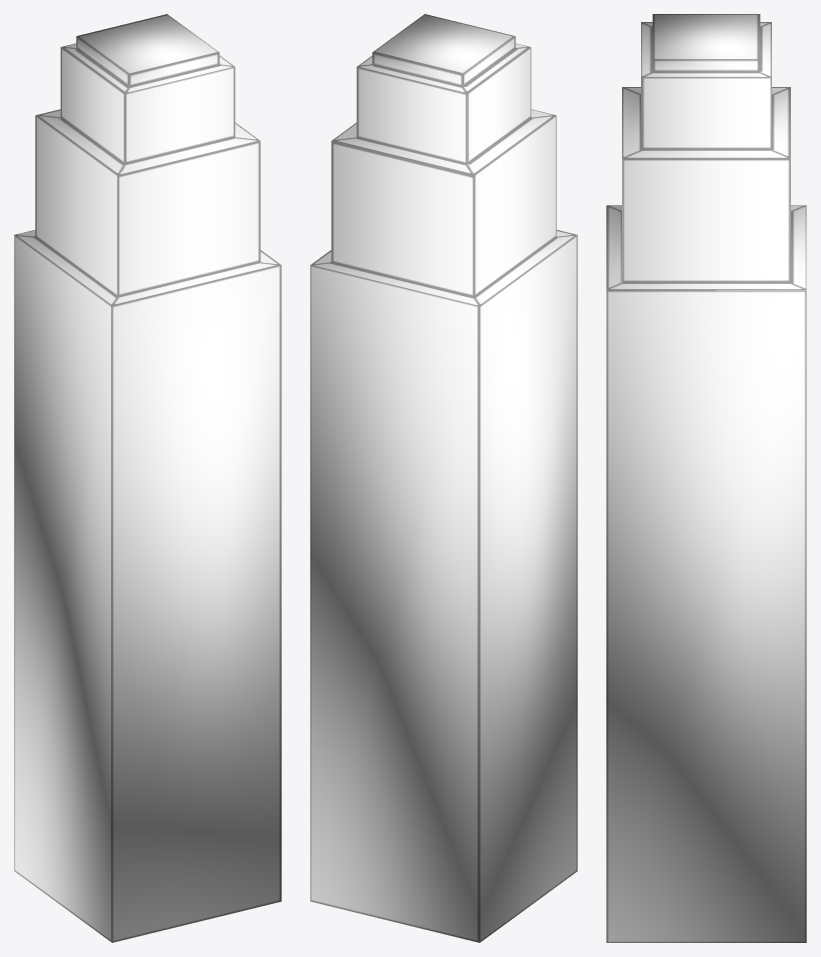
The model's file is skyscraper03.obj.
3 views of the same model, side by side, from view 1: azimuth 30°, elevation 25°; view 2: azimuth 150°, elevation 25°; view 3: azimuth 270°, elevation 25° (orthographic). The views are drawn at different scales.
Visible parts, largest first — view 1: cube3_copy20; view 2: cube3_copy20; view 3: cube3_copy20.
Part boxes in pixels (left/top/right/bottom): cube3_copy20: left=14, top=14, right=281, bottom=942; cube3_copy20: left=310, top=14, right=577, bottom=942; cube3_copy20: left=606, top=14, right=806, bottom=942.
Size of the model in its own units: 0.4189 by 1.99 by 0.4189.
Materials: 1 (1 with a texture image).
